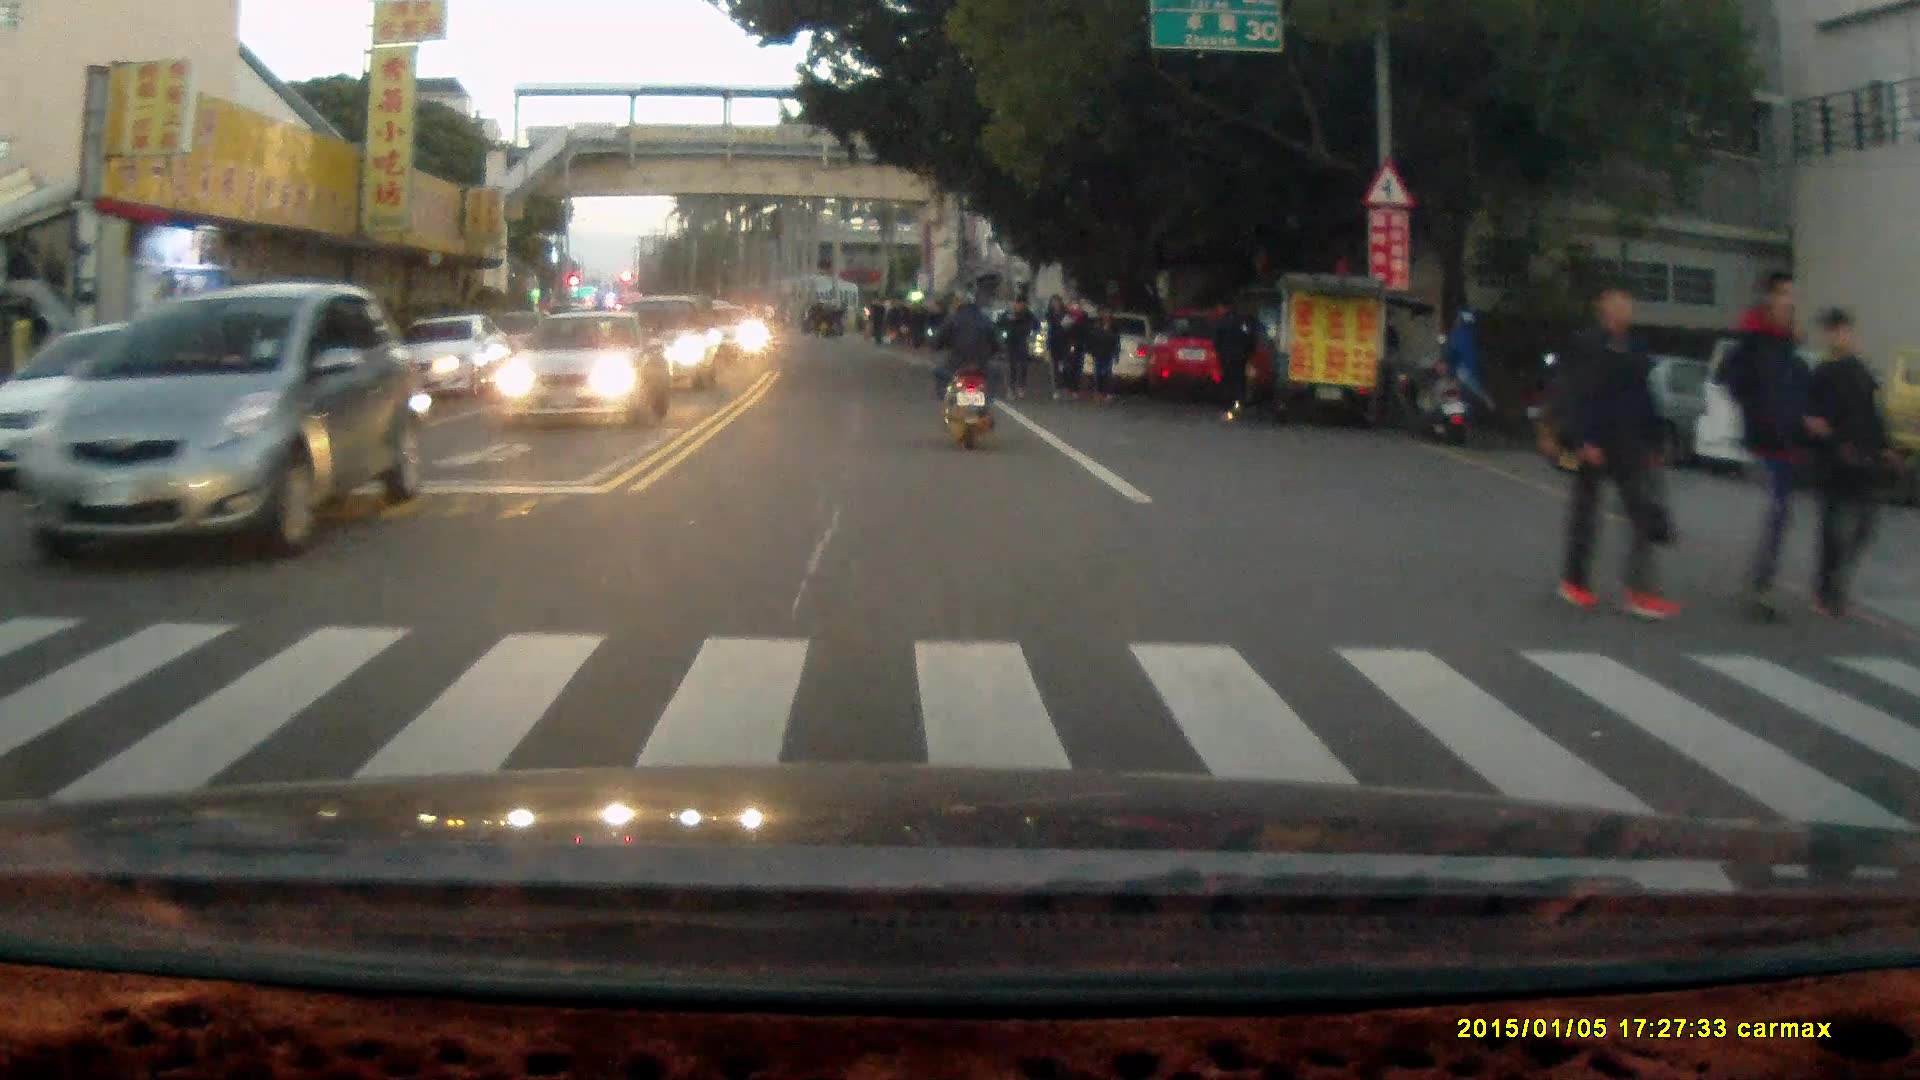pedestrian: (1546, 269, 1680, 623), (1723, 267, 1823, 616), (1802, 304, 1888, 621), (1204, 288, 1258, 425), (1440, 304, 1494, 430), (993, 290, 1035, 408), (1042, 288, 1076, 401), (1085, 298, 1121, 401)
rider: (925, 281, 1007, 448)
vehicle: (24, 282, 427, 559), (1536, 336, 1821, 473), (1756, 345, 1920, 504), (491, 304, 666, 425), (1143, 303, 1286, 401), (613, 286, 724, 387)
